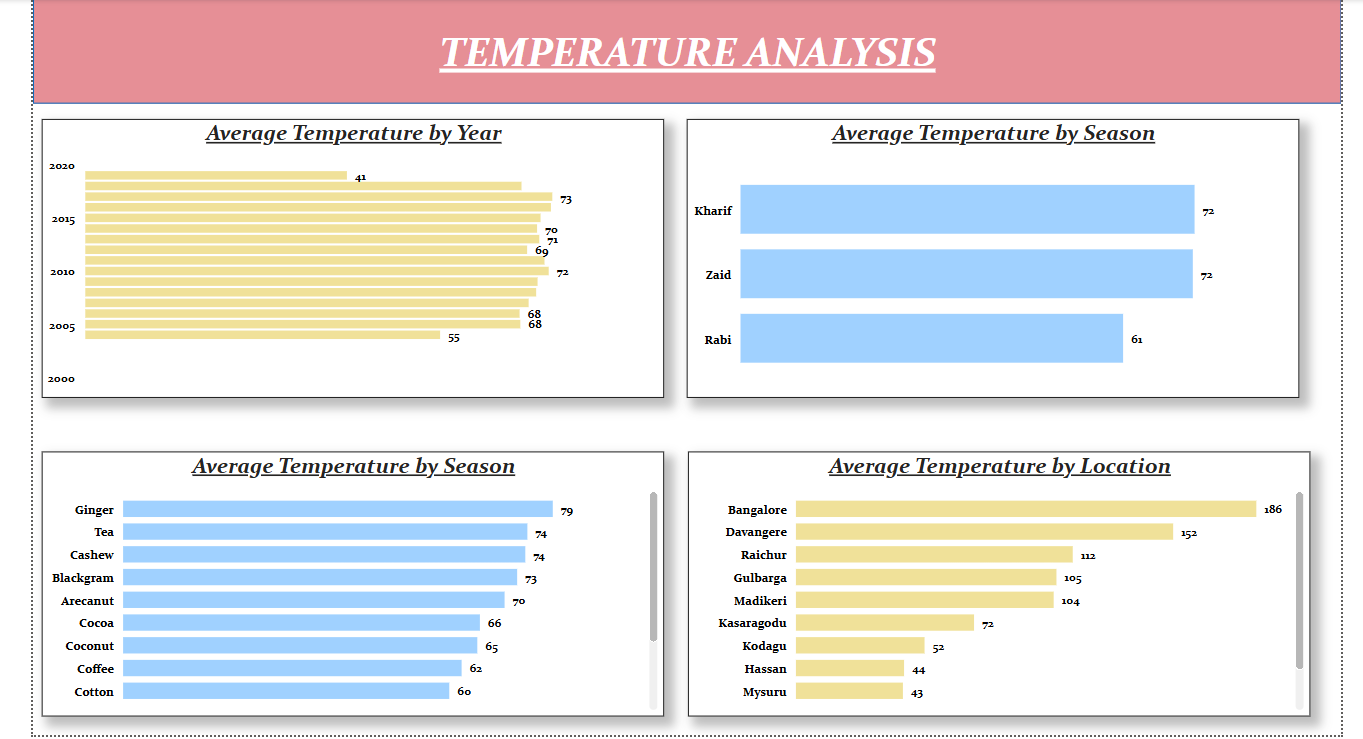

The dashboard page shown, as its layout file describes it:
{"tool":"powerbi","page":{"name":"Temperature Analysis","canvas":[1280,720],"ordinal":1},"visuals":[{"type":"shape","box":[0,0,1280.3,102.7],"z":0},{"type":"barChart","title":"Average Temperature by Year","fields":{"Category":["AGRICULTURE.YEAR"],"Y":["Avg(AGRICULTURE.TEMPERATURE)"]},"box":[8.6,117.4,609,272.7],"z":1000},{"type":"barChart","title":"Average Temperature by Season","fields":{"Category":["AGRICULTURE.SEASON"],"Y":["Avg(AGRICULTURE.TEMPERATURE)"]},"box":[639.5,117.4,599.2,272.7],"z":2000},{"type":"barChart","title":"Average Temperature by Season","fields":{"Category":["AGRICULTURE.CROPS"],"Y":["Avg(AGRICULTURE.TEMPERATURE)"]},"box":[8.6,442.7,609,259.2],"z":3000},{"type":"barChart","title":"Average Temperature by Location","fields":{"Category":["AGRICULTURE.LOCATION"],"Y":["Avg(AGRICULTURE.TEMPERATURE)"]},"box":[640.8,442.7,609,259.2],"z":4000}]}

Visuals, with their boxes on the page's 1280x720 design canvas (x1, y1, x2, y2). These are canvas units, not pixel positions in the 1363x739 screenshot, which may show the page scaled, cropped or inside an application window:
shape: BBox(0, 0, 1280, 103)
"Average Temperature by Year" barChart: BBox(9, 117, 618, 390)
"Average Temperature by Season" barChart: BBox(640, 117, 1239, 390)
"Average Temperature by Season" barChart: BBox(9, 443, 618, 702)
"Average Temperature by Location" barChart: BBox(641, 443, 1250, 702)
